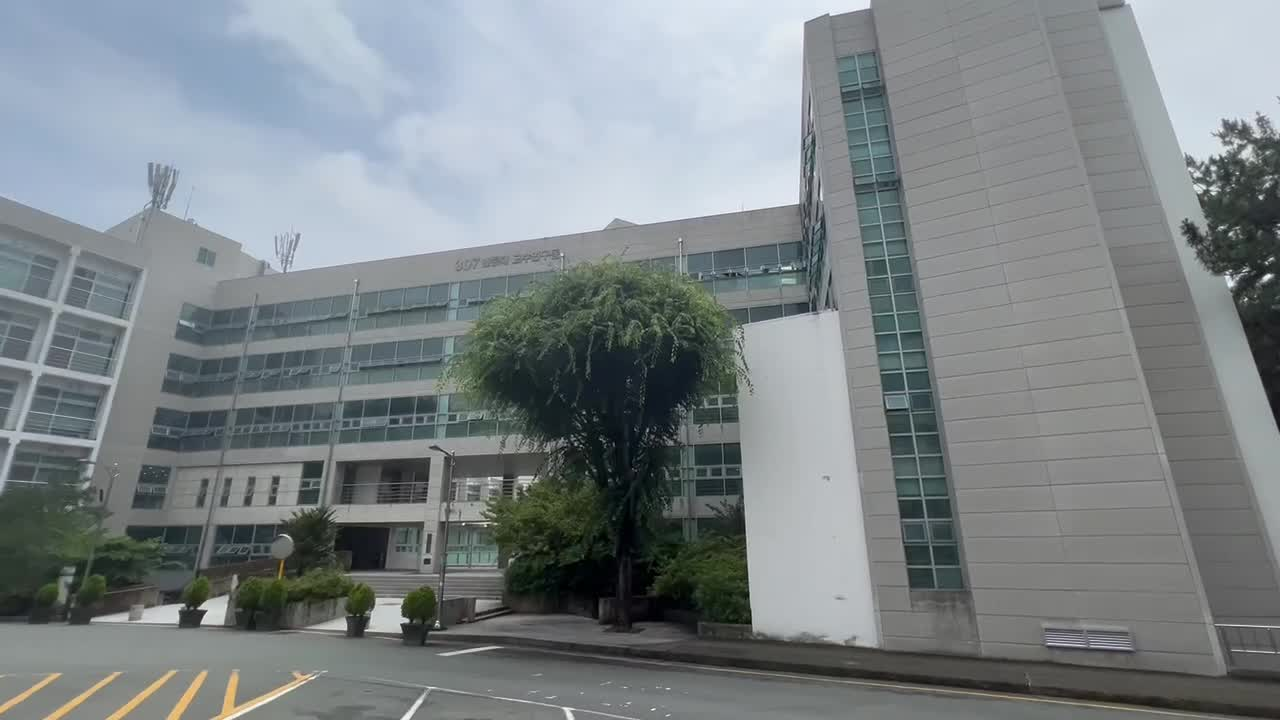low: (753, 7, 1204, 679)
